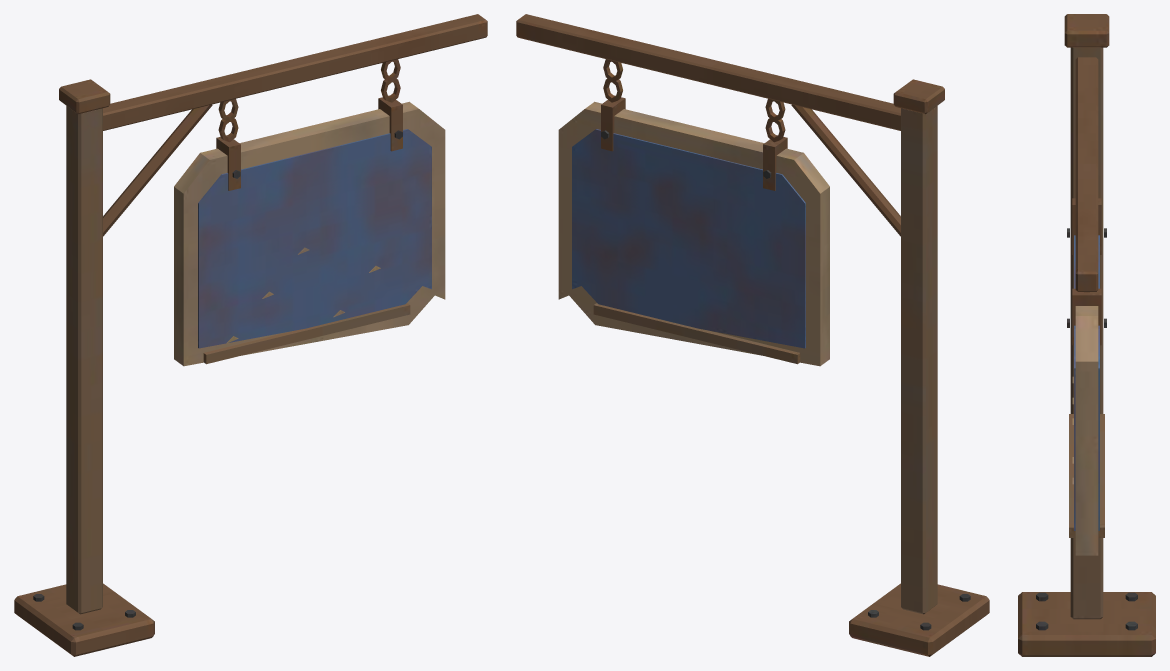
File: W15_blank_shop_signboard_v4.glb
The picture shows the model from 3 angles, left to right: view 1: azimuth 30°, elevation 25°; view 2: azimuth 150°, elevation 25°; view 3: azimuth 270°, elevation 25°; orthographic projection. The views are drawn at different scales.
Visible parts, largest first — view 1: Foot plate; view 2: Foot plate; view 3: Foot plate.
Part boxes in pixels (box(x1,y1,x2,y2)): Foot plate: box(14, 14, 487, 656); Foot plate: box(516, 14, 989, 656); Foot plate: box(1018, 14, 1155, 656).
Size of the model in its own units: 1.72 by 2 by 0.4076.
5 materials, 5 textured.
